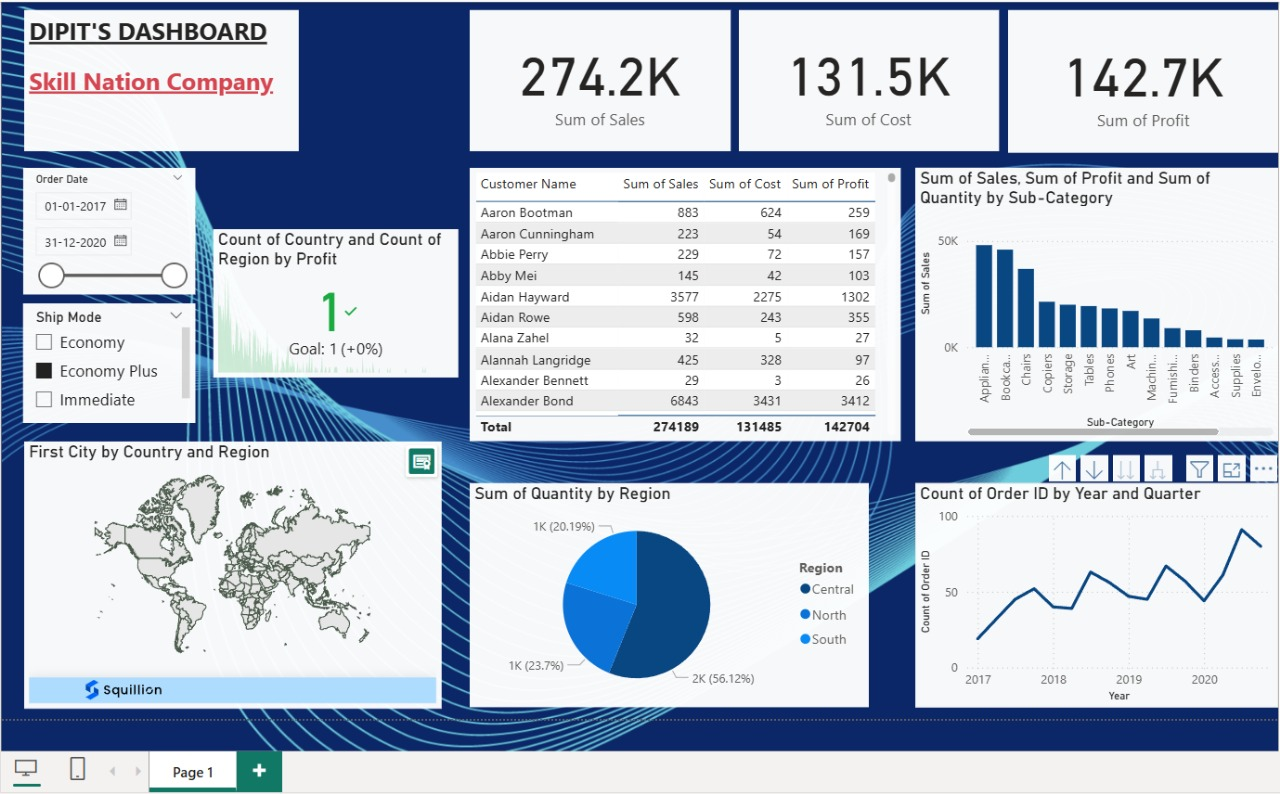

The dashboard page shown, as its layout file describes it:
{"tool":"powerbi","page":{"name":"Page 1","canvas":[1280,720],"ordinal":0},"visuals":[{"type":"card","fields":{"Values":["List of Orders.Sales"]},"box":[469.6,8.6,261.7,141.8],"z":0},{"type":"card","fields":{"Values":["List of Orders.Cost"]},"box":[739.8,8.6,260.5,141.8],"z":1000},{"type":"card","fields":{"Values":["List of Orders.Profit"]},"box":[1008.8,8.6,271.5,143.1],"z":2000},{"type":"tableEx","fields":{"Values":["List of Orders.Customer Name","List of Orders.Sales","List of Orders.Cost","List of Orders.Profit"]},"box":[470,166,432,274],"z":3000},{"type":"clusteredColumnChart","fields":{"Category":["List of Orders.Sub-Category"],"Y":["List of Orders.Sales"]},"box":[916,166,364,274],"z":4000},{"type":"lineChart","fields":{"Y":["List of Orders.Order ID"],"Category":["List of Orders.Order Date.Variation.Date Hierarchy.Year","List of Orders.Order Date.Variation.Date Hierarchy.Quarter"]},"box":[915.9,483,364.4,225],"z":5000},{"type":"pieChart","fields":{"Y":["List of Orders.Quantity"],"Category":["List of Orders.Region"]},"box":[470,482.5,400,225],"z":6000},{"type":"slicer","fields":{"Values":["List of Orders.Ship Mode"]},"box":[22.5,302.5,172.5,120],"z":7000},{"type":"slicer","fields":{"Values":["List of Orders.Order Date"]},"box":[22.5,166.2,172.5,127.5],"z":8000},{"type":"textbox","box":[23.2,8.6,275.1,141.8],"z":9000},{"type":"MapBySquillion","fields":{"category":["List of Orders.Country"],"value":["List of Orders.City"],"subCategory":["List of Orders.Region"]},"box":[23.2,440.2,418.2,267.8],"z":9001},{"type":"kpi","fields":{"Indicator":["List of Orders.Country"],"TrendLine":["List of Orders.Profit"],"Goal":["List of Orders.Region"]},"box":[212.8,227.4,245.8,149.2],"z":9002}]}

Visuals, with their boxes in screenshot pixels (x1, y1, x2, y2):
card - List of Orders.Sales: select_region(466, 12, 725, 152)
card - List of Orders.Cost: select_region(733, 12, 990, 152)
card - List of Orders.Profit: select_region(998, 12, 1266, 153)
tableEx - List of Orders.Customer Name x List of Orders.Sales: select_region(467, 167, 893, 437)
clusteredColumnChart - List of Orders.Sub-Category x List of Orders.Sales: select_region(907, 167, 1266, 437)
lineChart - List of Orders.Order ID x List of Orders.Order Date.Variation.Date Hierarchy.Year: select_region(907, 480, 1266, 702)
pieChart - List of Orders.Quantity x List of Orders.Region: select_region(467, 479, 861, 701)
slicer - List of Orders.Ship Mode: select_region(26, 302, 196, 420)
slicer - List of Orders.Order Date: select_region(26, 167, 196, 293)
textbox: select_region(26, 12, 298, 152)
MapBySquillion - List of Orders.Country x List of Orders.City: select_region(26, 437, 439, 702)
kpi - List of Orders.Country x List of Orders.Profit: select_region(213, 228, 456, 375)
